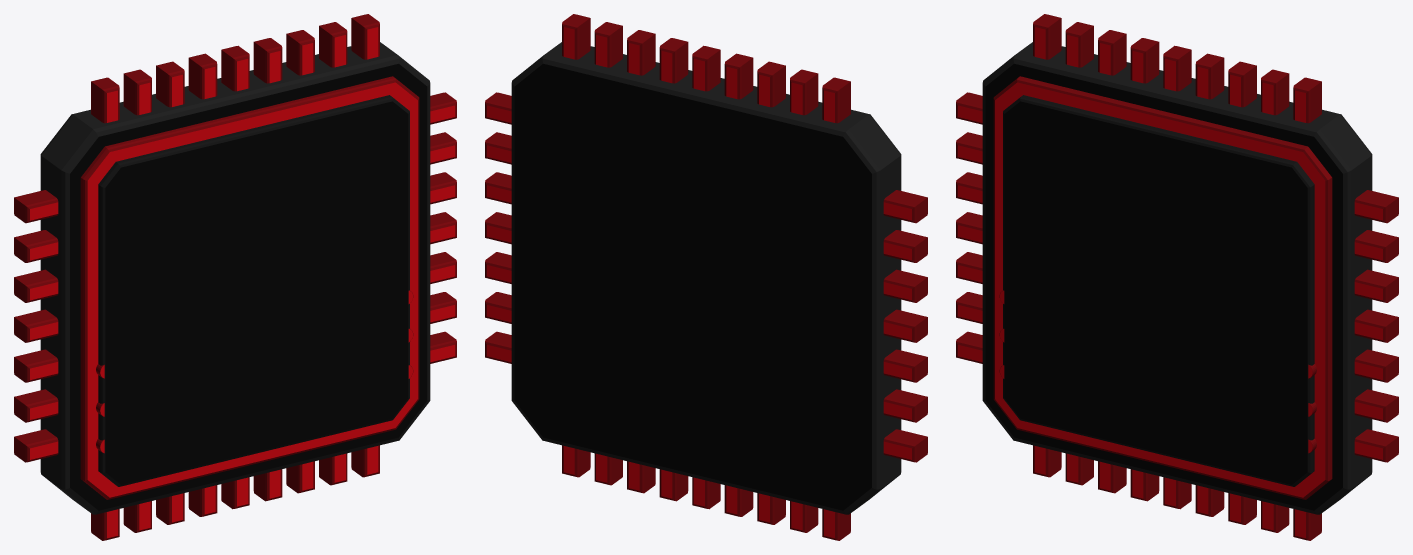
Rendered from silicon-badgers-chip-v3.glb.
3 renders of one model, left to right at view 1: azimuth 30°, elevation 25°; view 2: azimuth 150°, elevation 25°; view 3: azimuth 330°, elevation 25°, orthographic.
Visible parts, largest first — view 1: SB_Top_Pin_0, SB_Chip_Body; view 2: SB_Chip_Body, SB_Top_Pin_0; view 3: SB_Top_Pin_0, SB_Chip_Body.
Boxes of the visible parts, x1,y1,x2,y2 form: SB_Top_Pin_0: [14, 14, 456, 540]; SB_Chip_Body: [40, 42, 430, 514]; SB_Chip_Body: [511, 42, 901, 514]; SB_Top_Pin_0: [485, 14, 927, 540]; SB_Top_Pin_0: [956, 14, 1398, 540]; SB_Chip_Body: [982, 42, 1372, 514].
Bounding box in the file's own units: 2.72 × 2.72 × 0.378.
4 materials, 4 textured.
